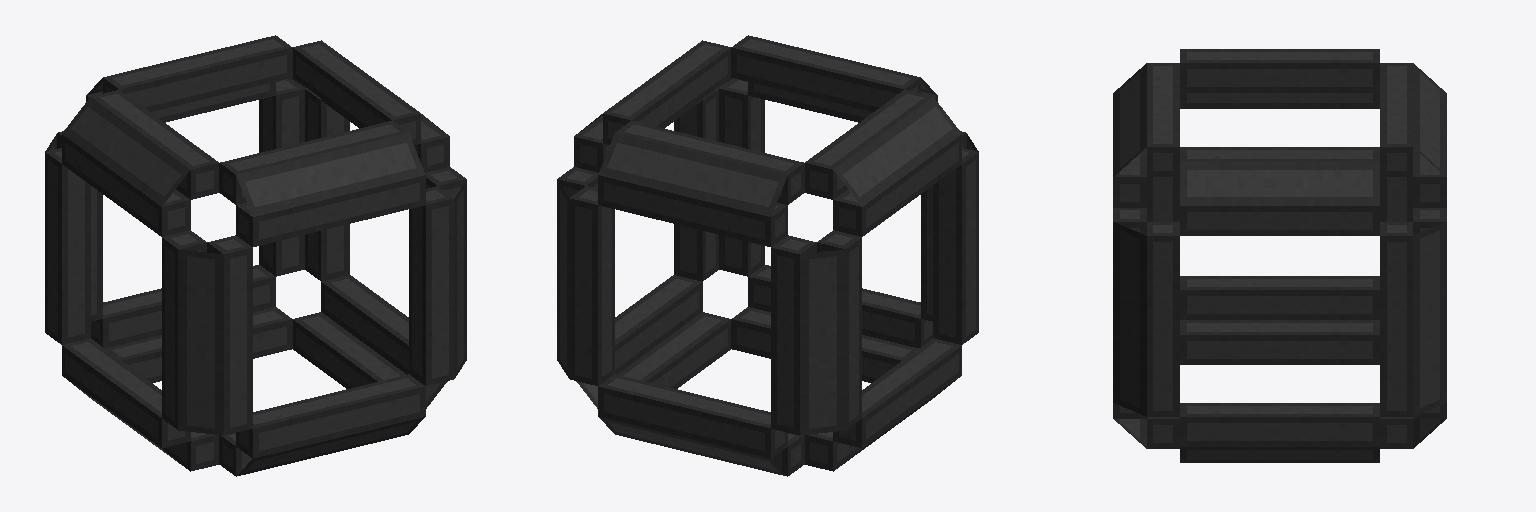
The picture shows the model from 3 angles: view 1: azimuth 30°, elevation 25°; view 2: azimuth 150°, elevation 25°; view 3: azimuth 270°, elevation 25°; orthographic projection.
Visible parts, largest first — view 1: top, TS; view 2: top, TS; view 3: top, TS.
Part boxes in pixels (x1,y1,x2,y2): top: (45,35,466,475); TS: (45,78,466,476); top: (557,35,978,475); TS: (557,78,978,476); top: (1113,49,1446,448); TS: (1113,63,1446,462).
Size of the model in its own units: 0.625 by 0.625 by 0.625.
Materials: 1 (1 with a texture image).